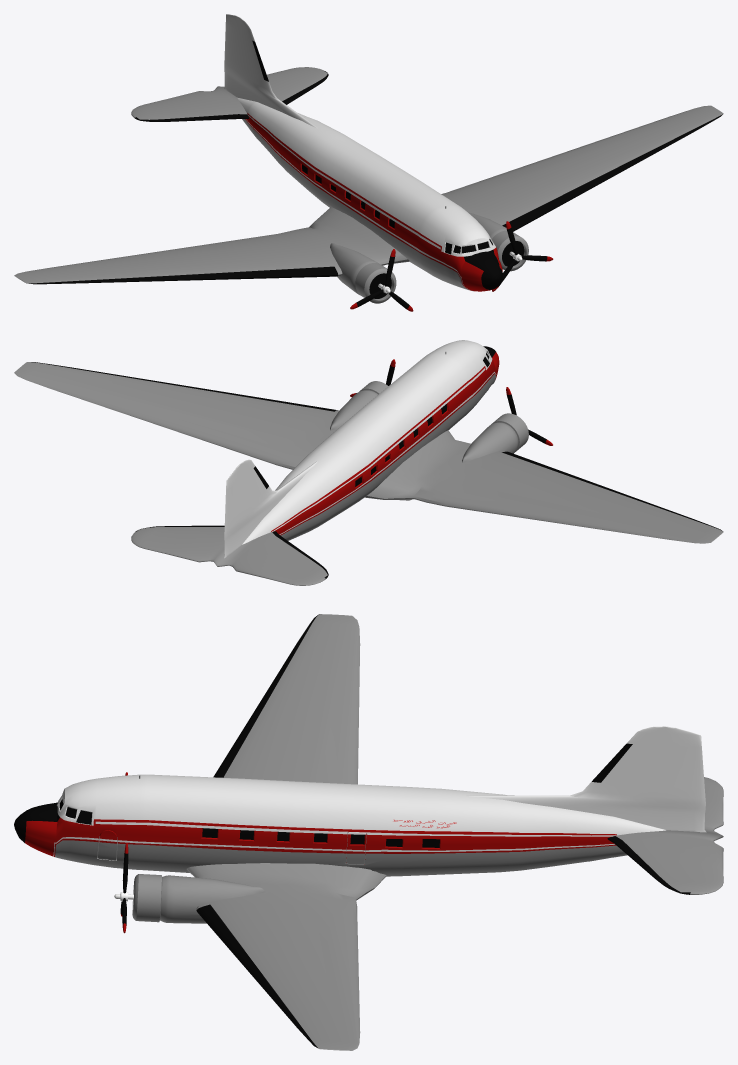
Rendered from Douglas DC - 3.glb.
3 renders of one model, top to bottom at view 1: azimuth 30°, elevation 25°; view 2: azimuth 150°, elevation 25°; view 3: azimuth 270°, elevation 25°, orthographic. The views are drawn at different scales.
Parts seen in each view (by area): view 1: Cylinder, Cube, Cylinder.002, Cylinder.003; view 2: Cylinder, Cube, Cylinder.002, Cylinder.003; view 3: Cube, Cylinder, Cylinder.002.
Part boxes in pixels (<box>): Cylinder: <box>14,105,723,303</box>; Cube: <box>224,14,502,291</box>; Cylinder.002: <box>131,67,328,121</box>; Cylinder.003: <box>350,221,553,311</box>; Cylinder: <box>14,362,723,543</box>; Cube: <box>224,340,499,558</box>; Cylinder.002: <box>131,525,328,585</box>; Cylinder.003: <box>350,359,552,445</box>; Cube: <box>14,726,706,876</box>; Cylinder: <box>132,614,386,1050</box>; Cylinder.002: <box>607,777,723,894</box>.
Size of the model in its own units: 4.19 by 0.7388 by 2.89.
12 materials, 1 textured.
